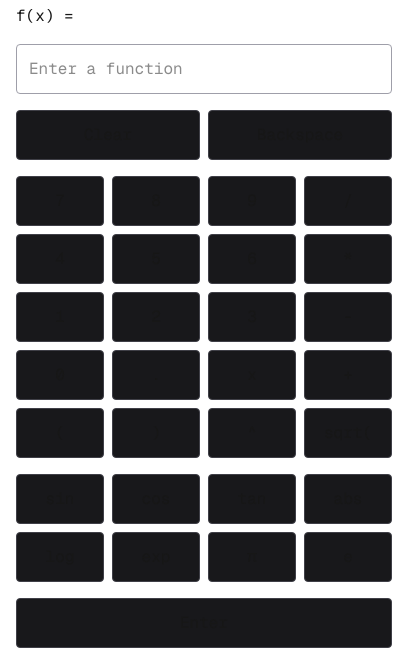
Scenario: FunctionInput Component › backspace removes character before cursor
In the field named "function": (204, 69) [16,44,392,94], type "x+3"
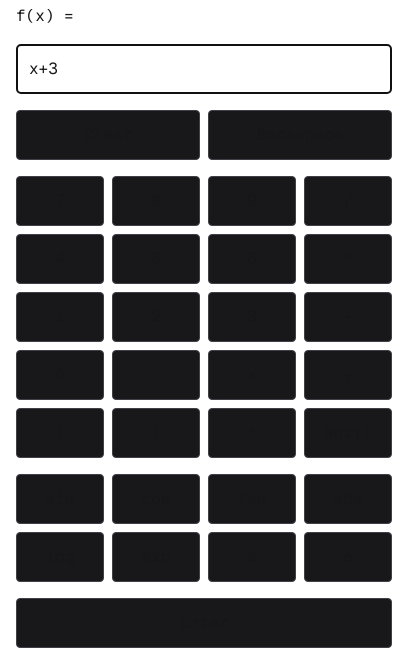
Click the button "Backspace": (300, 135) [208,110,392,160]
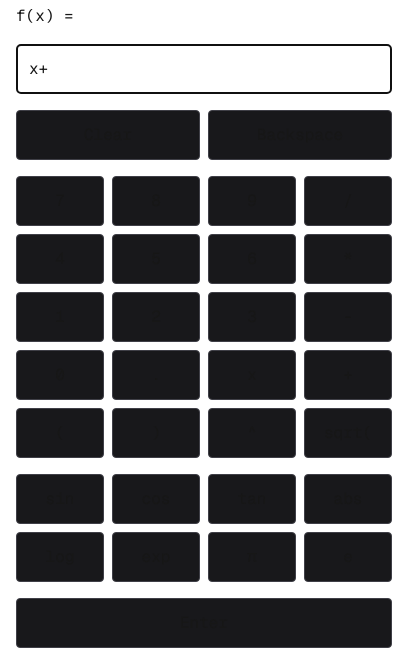
Expected: the field named "function" holds "x+", [16,44,392,94]
